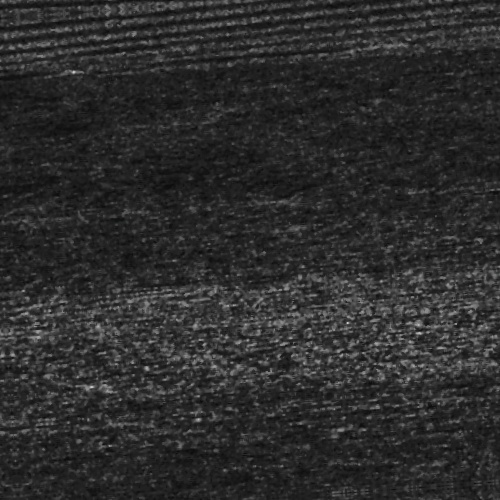object: (361, 47, 392, 58), (41, 54, 94, 59)
shadow: (311, 47, 377, 58), (0, 54, 67, 59)
